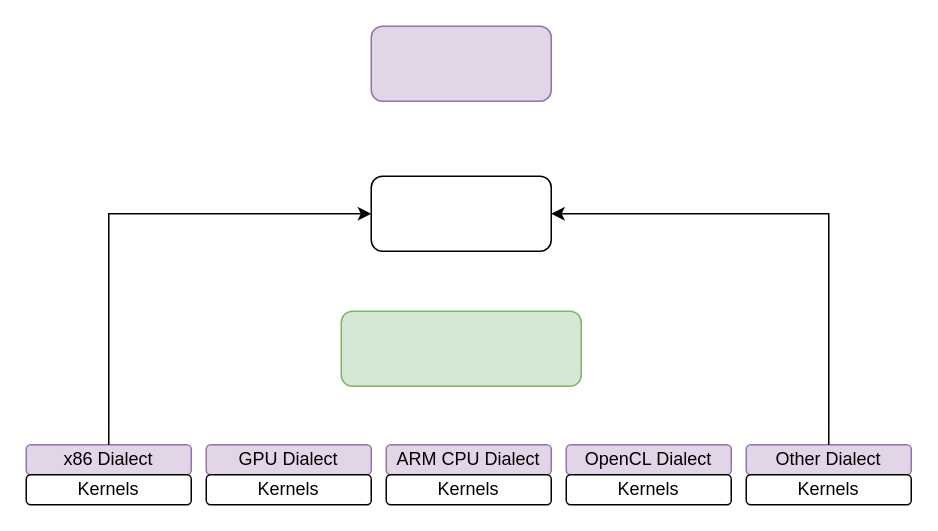
Some shapes in this 938 by 531 pixel diagram are drawn without their labels. The shapes that lost their labels are listed below. From the top down, each one's centre as x and y in pixels, then its label:
point 460,63: Paddle IR Dialect
point 460,213: MLIR Passes
point 460,348: HostRuntime
